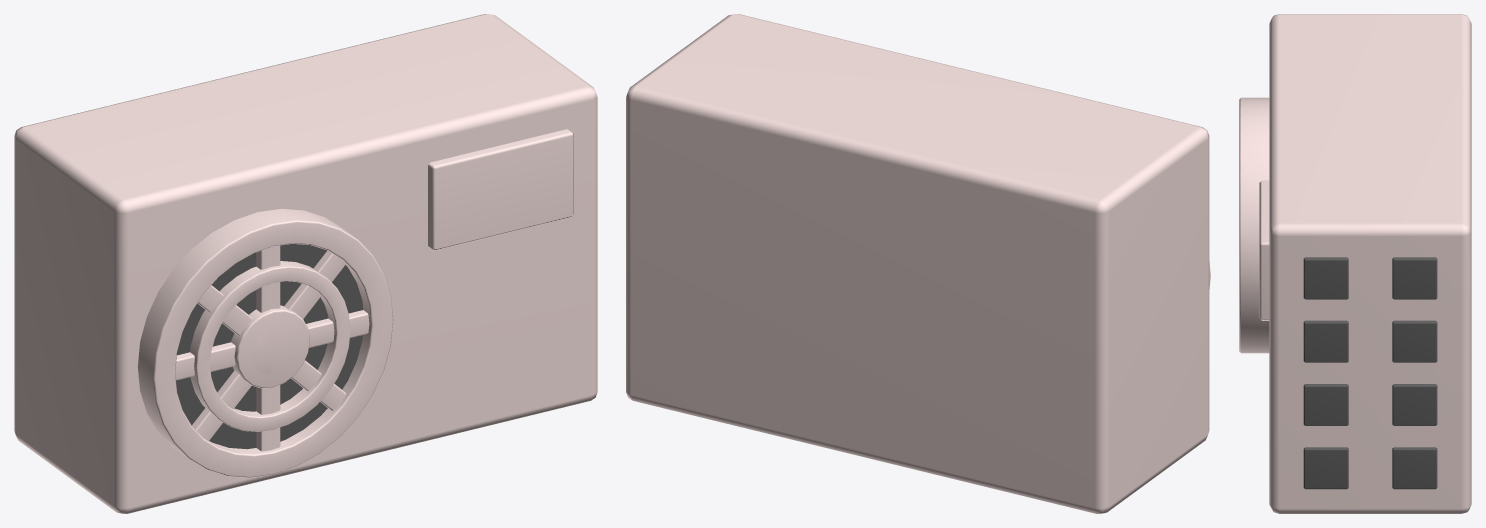
File: City_15_Outdoor_Air_Conditioning_1.glb
3 renders of one model, left to right at view 1: azimuth 30°, elevation 25°; view 2: azimuth 150°, elevation 25°; view 3: azimuth 270°, elevation 25°, orthographic. The views are drawn at different scales.
Parts seen in each view (by area): view 1: City_15_Outdoor_Air_Conditioning_1; view 2: City_15_Outdoor_Air_Conditioning_1; view 3: City_15_Outdoor_Air_Conditioning_1.
Part boxes in pixels (<box>): City_15_Outdoor_Air_Conditioning_1: <box>14,14,597,513</box>; City_15_Outdoor_Air_Conditioning_1: <box>626,14,1210,513</box>; City_15_Outdoor_Air_Conditioning_1: <box>1239,14,1471,513</box>.
Size of the model in its own units: 1.64 by 1.01 by 0.7319.
Materials: 1 (1 with a texture image).
